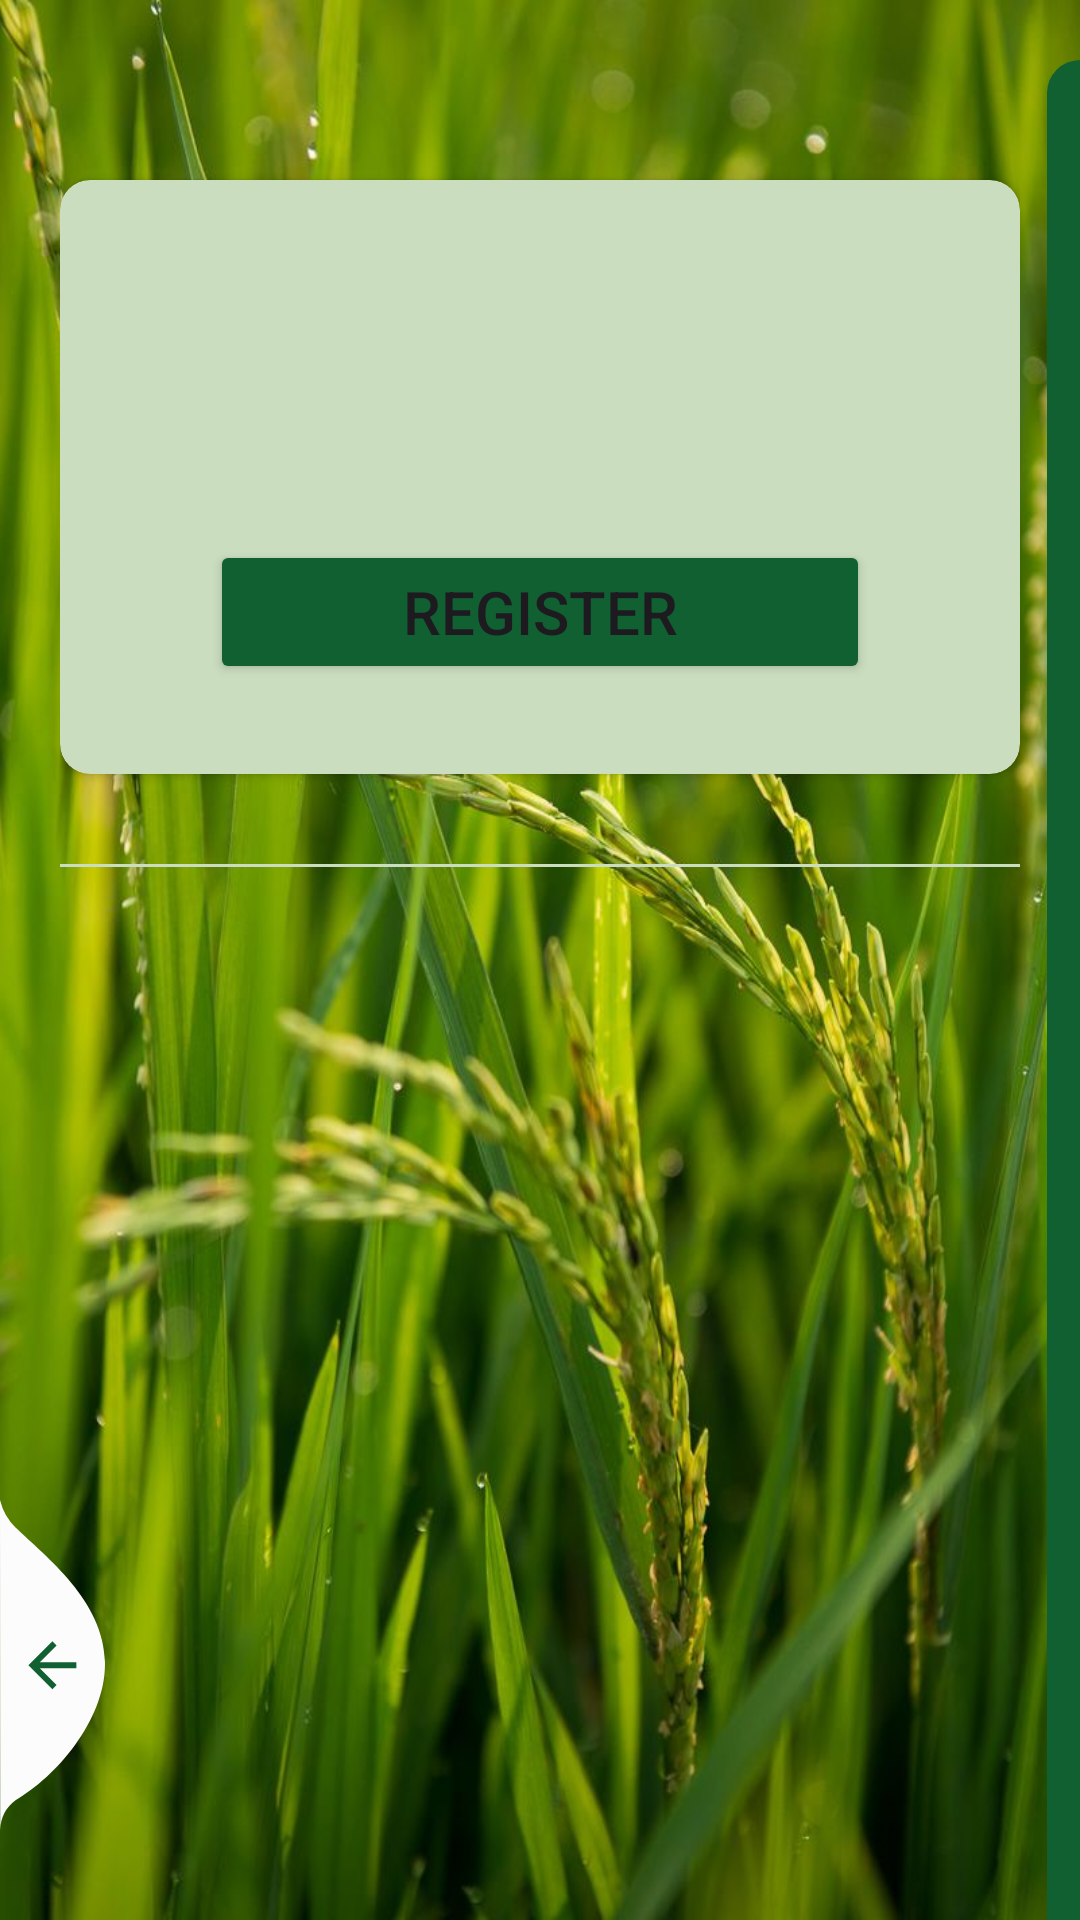

Locate icon controls on the screen. Image size 1080w x 1920h, boxes as BBox(x1, y1, x2, y2).
back: BBox(0, 1500, 105, 1830)
